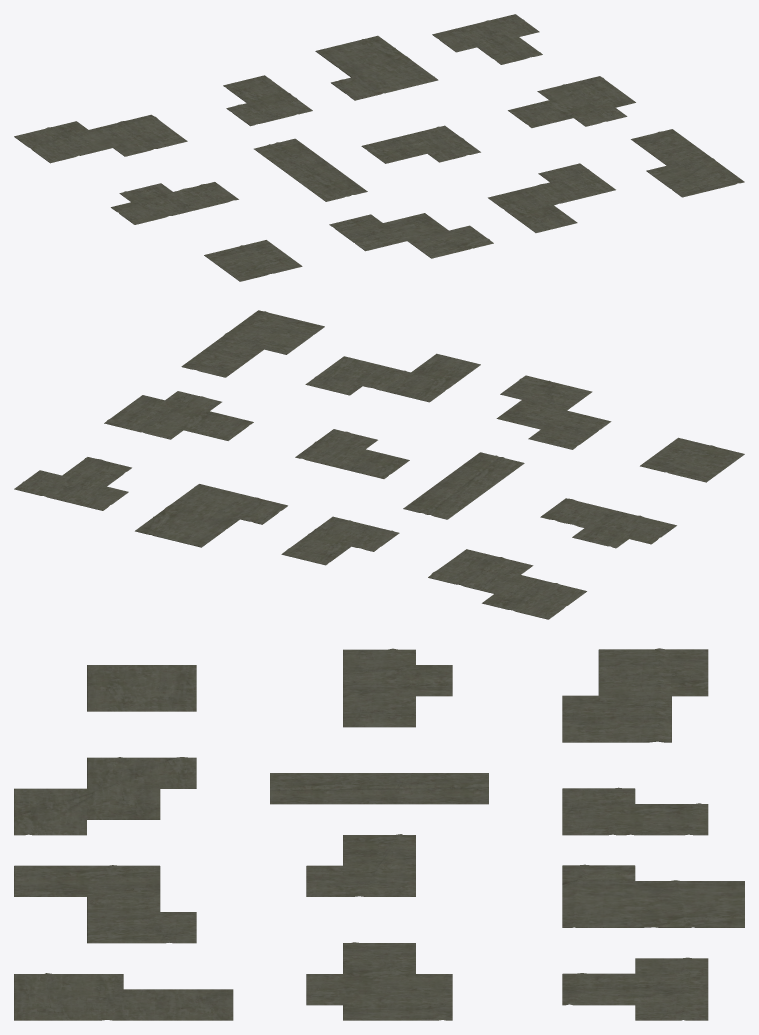
File: Psychiatric_Ward_Infirmary_Floor_Patches_B.glb
3 views of the same model, one above another, from view 1: azimuth 30°, elevation 25°; view 2: azimuth 150°, elevation 25°; view 3: azimuth 270°, elevation 25° (orthographic). The views are drawn at different scales.
Visible parts, largest first — view 1: Floor_Patches_1, Floor_Patches_3, Floor_Patches_10, Floor_Patches_11, Floor_Patches_8, Floor_Patches_12, Floor_Patches_4, Floor_Patches_5, Floor_Patches_6, Floor_Patches_7, Floor_Patches_2, Floor_Patches_9; view 2: Floor_Patches_1, Floor_Patches_3, Floor_Patches_11, Floor_Patches_10, Floor_Patches_8, Floor_Patches_12, Floor_Patches_4, Floor_Patches_5, Floor_Patches_6, Floor_Patches_7, Floor_Patches_2, Floor_Patches_9; view 3: Floor_Patches_1, Floor_Patches_3, Floor_Patches_11, Floor_Patches_10, Floor_Patches_12, Floor_Patches_8, Floor_Patches_4, Floor_Patches_6, Floor_Patches_5, Floor_Patches_2, Floor_Patches_7, Floor_Patches_9.
Part boxes in pixels (<box>): Floor_Patches_1: <box>14,114,187,163</box>; Floor_Patches_3: <box>315,35,438,100</box>; Floor_Patches_10: <box>329,213,493,258</box>; Floor_Patches_11: <box>488,163,615,232</box>; Floor_Patches_8: <box>508,76,635,127</box>; Floor_Patches_12: <box>631,129,744,197</box>; Floor_Patches_4: <box>432,14,542,64</box>; Floor_Patches_5: <box>111,182,238,224</box>; Floor_Patches_6: <box>254,138,367,201</box>; Floor_Patches_7: <box>361,125,480,163</box>; Floor_Patches_2: <box>223,75,312,126</box>; Floor_Patches_9: <box>204,240,302,281</box>; Floor_Patches_1: <box>428,549,586,619</box>; Floor_Patches_3: <box>135,484,287,547</box>; Floor_Patches_11: <box>305,353,480,402</box>; Floor_Patches_10: <box>496,375,611,449</box>; Floor_Patches_8: <box>104,391,253,440</box>; Floor_Patches_12: <box>181,310,324,377</box>; Floor_Patches_4: <box>14,457,131,510</box>; Floor_Patches_5: <box>540,498,676,548</box>; Floor_Patches_6: <box>403,452,524,519</box>; Floor_Patches_7: <box>295,429,409,478</box>; Floor_Patches_2: <box>281,516,399,565</box>; Floor_Patches_9: <box>640,437,744,482</box>; Floor_Patches_1: <box>562,648,708,742</box>; Floor_Patches_3: <box>562,864,744,927</box>; Floor_Patches_11: <box>14,865,196,943</box>; Floor_Patches_10: <box>14,757,196,835</box>; Floor_Patches_12: <box>14,973,233,1020</box>; Floor_Patches_8: <box>306,942,452,1020</box>; Floor_Patches_4: <box>562,957,708,1020</box>; Floor_Patches_6: <box>270,773,488,804</box>; Floor_Patches_5: <box>343,648,452,727</box>; Floor_Patches_2: <box>562,787,708,835</box>; Floor_Patches_7: <box>306,834,415,896</box>; Floor_Patches_9: <box>87,665,196,711</box>.
Bounding box in the file's own units: 12 × 0.0358 × 10.
1 material, 1 textured.
